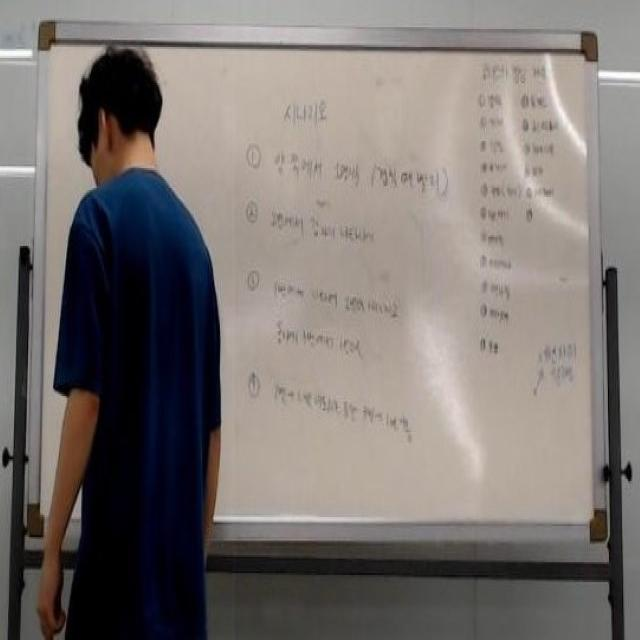Instructor: (60, 37, 195, 640)
White-board: (33, 29, 602, 530)
